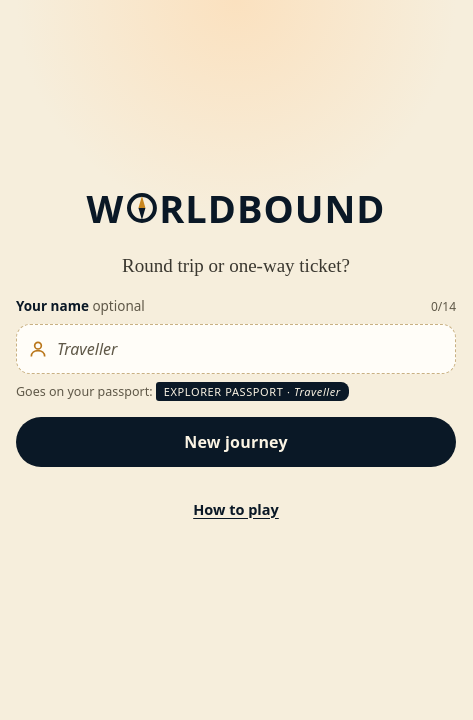
Story 1.6 AC1 / FR-3 map and status › shows Day 1 of 30, days left, money and 0/5 stamps on a new journey
What coordinates should you click on to do the following:
click the button "New journey"
I would click on:
 (236, 442)
Its box is [16,417,456,467].
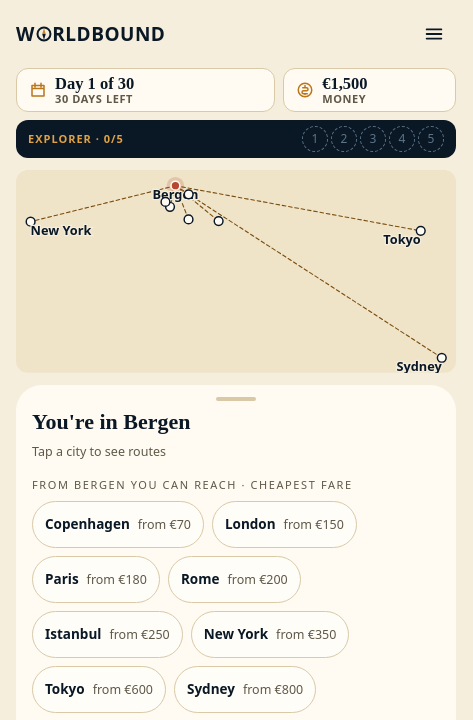
Result: the text "Day 1 of 30" is shown at [55,76,134,93]
Result: the text "€1,500" is shown at [322,76,368,93]
Result: the picture named "Explorer passport, 0 of 5 stamps" is shown at [16,120,456,158]
